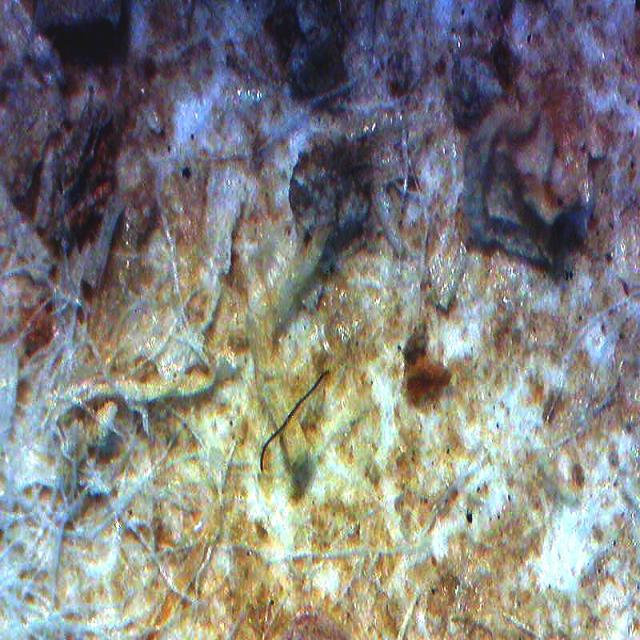microplastic: (260, 369, 328, 472)
